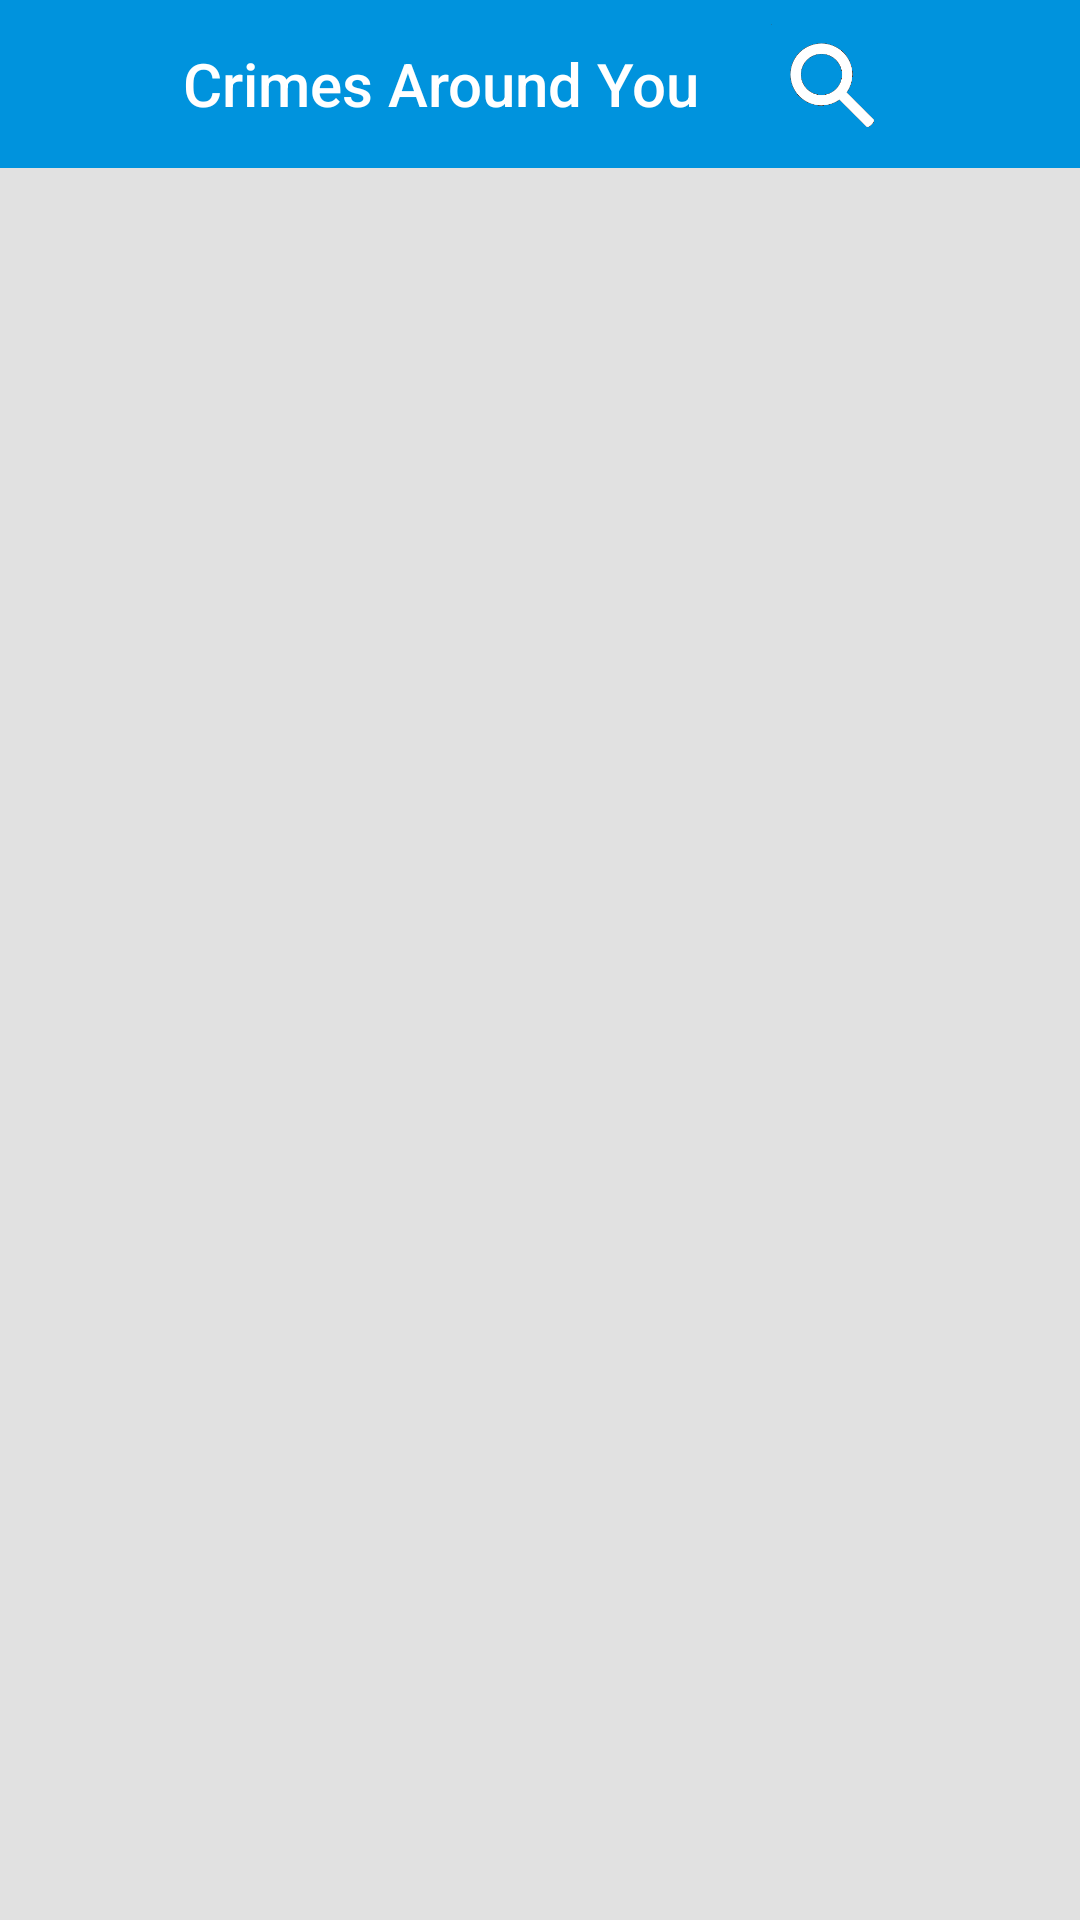

Screen size 1080*1920. Icon name, then its center in pixels as (x,y):
searchicon: (822,75)
